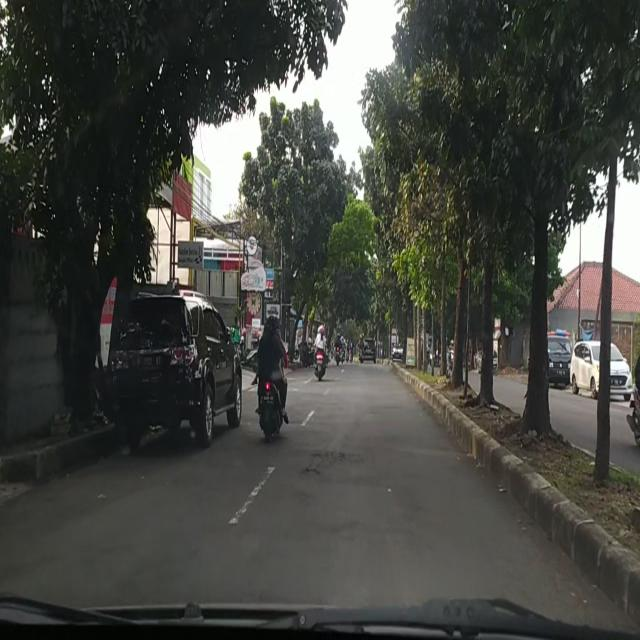Drain Hole: (295, 445, 354, 479)
